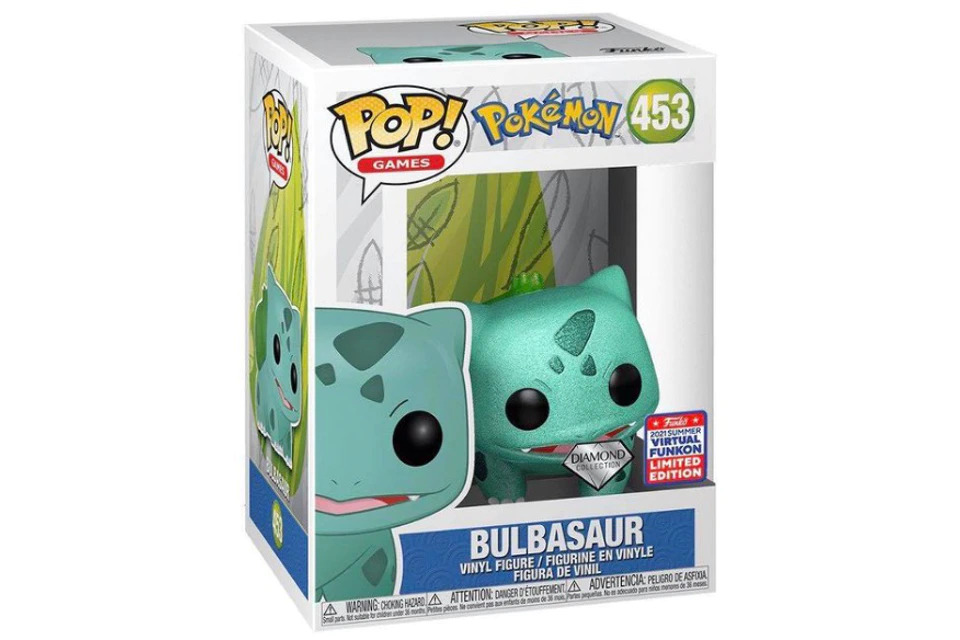001-bulbasaur: (289, 282, 471, 611), (421, 268, 665, 511), (247, 253, 305, 489)
